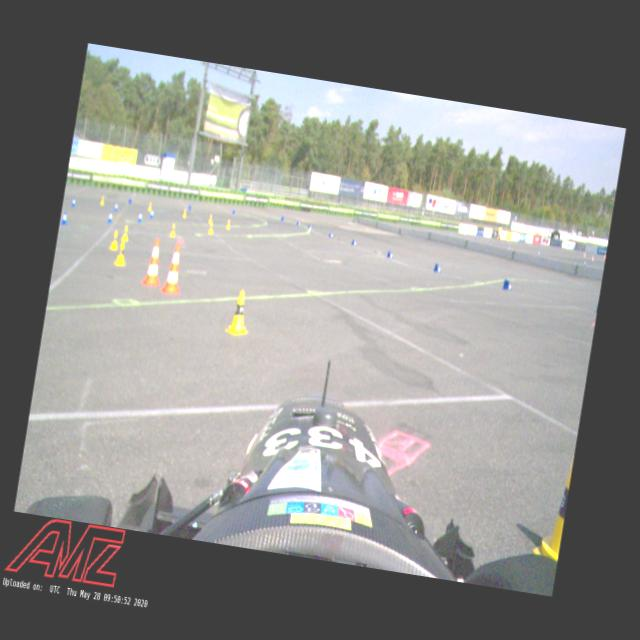blue_cone: (502, 278, 514, 292), (60, 210, 69, 226), (106, 210, 114, 224), (70, 196, 78, 209), (137, 210, 144, 224), (433, 264, 442, 274), (114, 200, 120, 212), (150, 208, 156, 220), (386, 250, 394, 258), (351, 238, 358, 246), (328, 232, 334, 238)
large_orange_cone: (159, 242, 188, 296), (140, 236, 168, 290)
yellow_cone: (224, 288, 254, 338), (114, 240, 129, 268), (108, 230, 122, 252), (120, 223, 130, 243), (168, 224, 177, 238), (99, 194, 106, 207), (208, 222, 215, 235), (225, 218, 232, 230), (146, 201, 153, 212), (182, 208, 188, 219), (208, 213, 214, 224)
